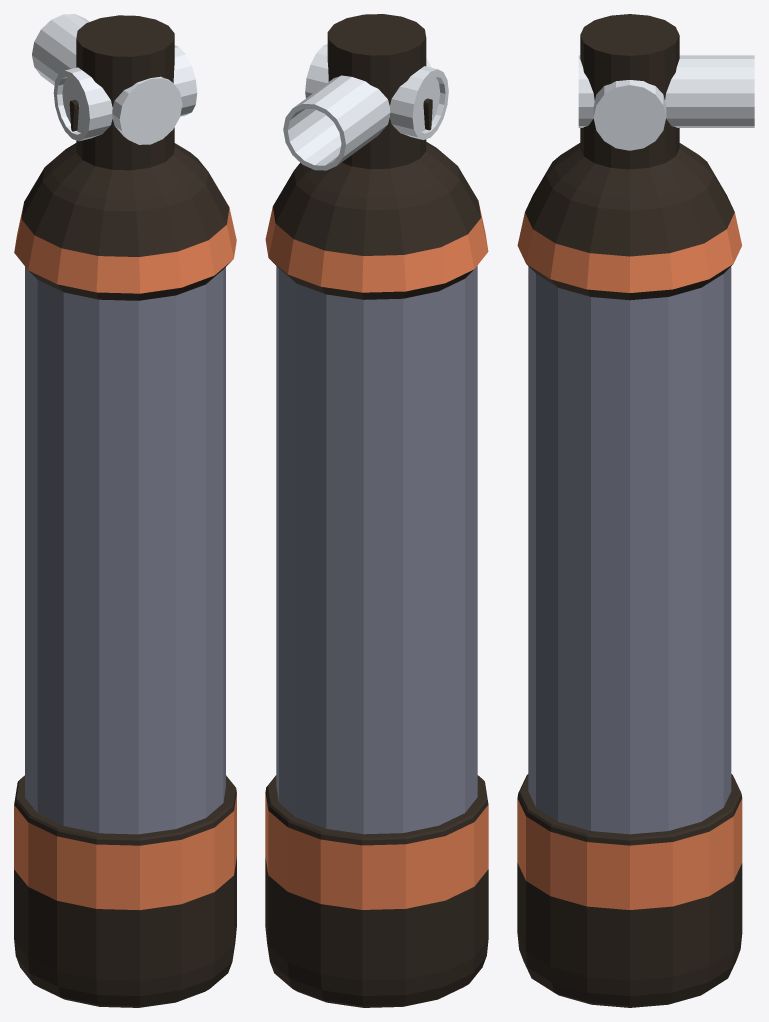
The model's file is OxygenTank.fbx.
3 views of the same model, side by side, from view 1: azimuth 30°, elevation 25°; view 2: azimuth 150°, elevation 25°; view 3: azimuth 270°, elevation 25° (orthographic).
Visible parts, largest first — view 1: Cylinder, Cylinder.001, Cylinder.002; view 2: Cylinder, Cylinder.001, Cylinder.002; view 3: Cylinder, Cylinder.001, Cylinder.002.
Part boxes in pixels (bbox=[...]): Cylinder: bbox=[14, 15, 236, 1007]; Cylinder.001: bbox=[32, 14, 182, 144]; Cylinder.002: bbox=[53, 45, 197, 141]; Cylinder: bbox=[265, 14, 488, 1007]; Cylinder.001: bbox=[283, 58, 431, 170]; Cylinder.002: bbox=[305, 44, 448, 139]; Cylinder: bbox=[517, 14, 742, 1007]; Cylinder.001: bbox=[578, 55, 754, 127]; Cylinder.002: bbox=[593, 80, 666, 150].
Size of the model in its own units: 364 by 1663 by 384.
